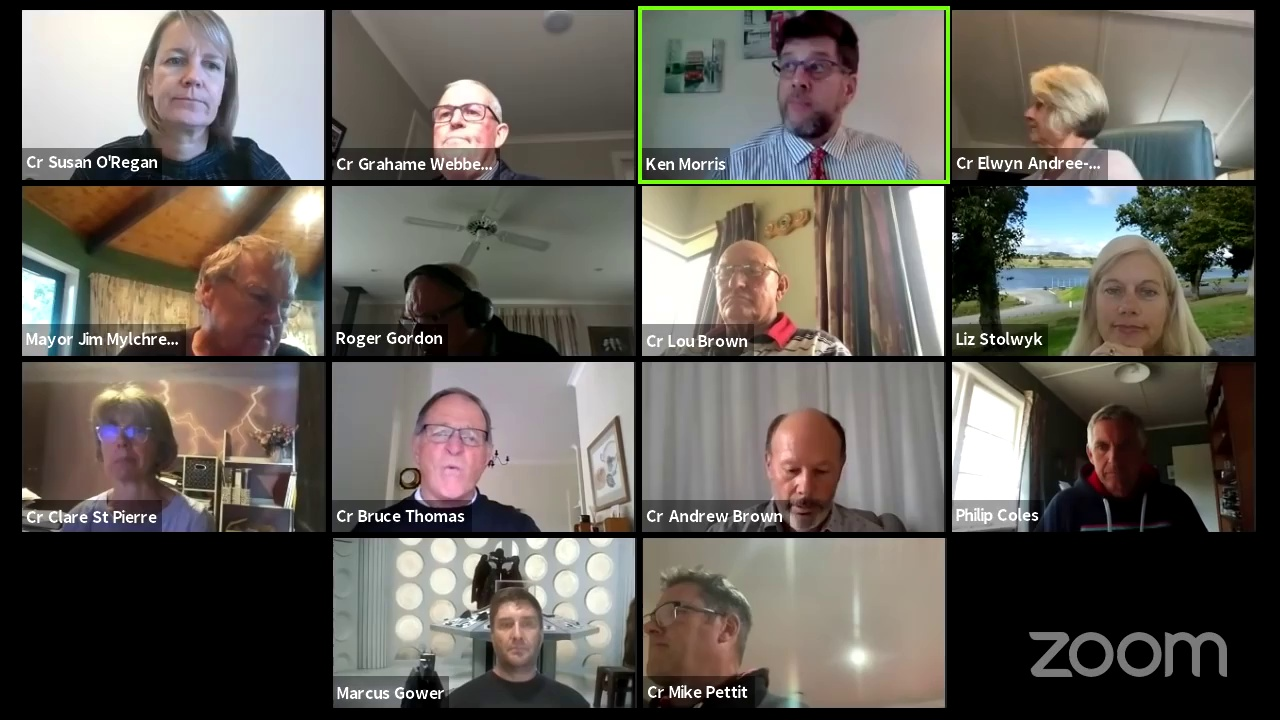Distracted: (765, 25, 857, 132), (202, 241, 289, 350), (647, 583, 731, 675), (771, 417, 844, 521), (404, 265, 488, 342), (1024, 71, 1098, 148)
Not Distracted: (140, 20, 224, 129), (407, 398, 489, 492), (706, 241, 789, 329), (422, 80, 494, 174), (1092, 261, 1172, 344), (90, 396, 163, 479), (1070, 414, 1147, 480), (493, 596, 545, 664)
